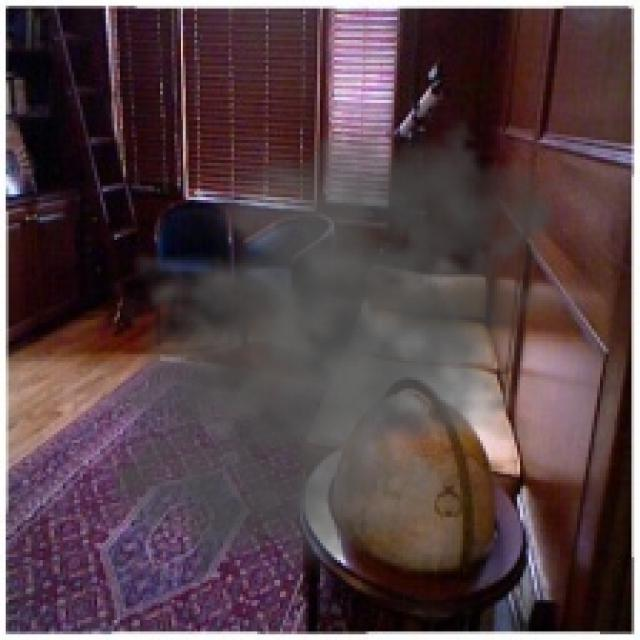smoke: (71, 86, 594, 611)
